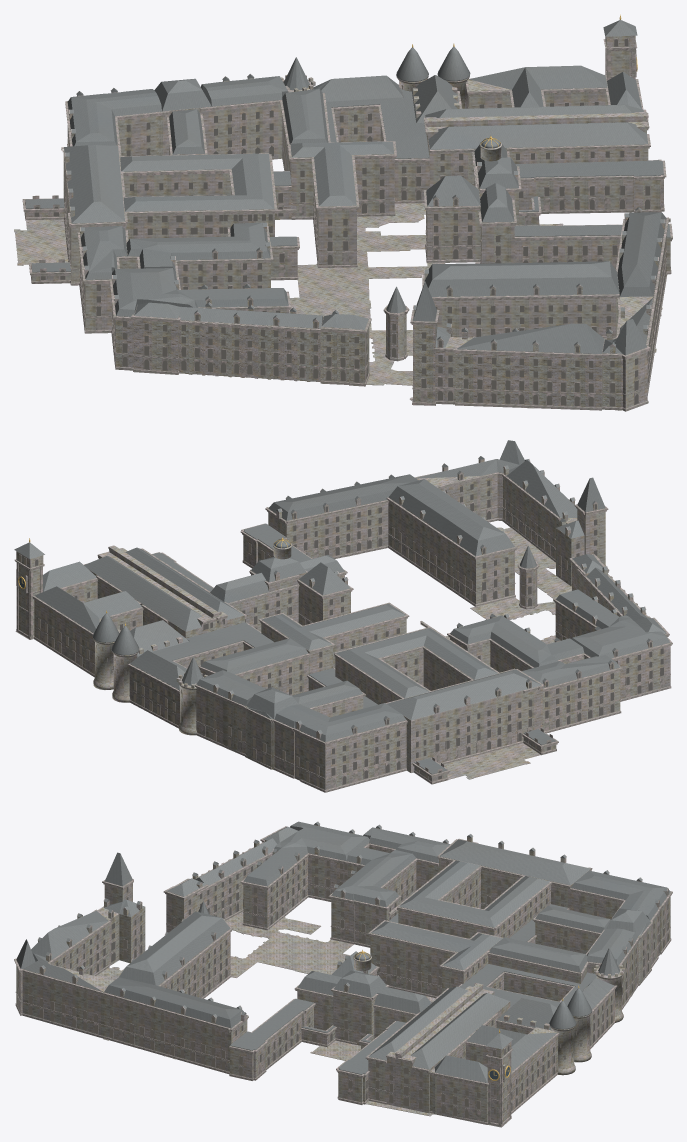
The model's file is palais-de-justice.glb.
3 renders of one model, top to bottom at view 1: azimuth 30°, elevation 25°; view 2: azimuth 150°, elevation 25°; view 3: azimuth 270°, elevation 25°, orthographic. The views are drawn at different scales.
Parts seen in each view (by area): view 1: stone, roof, trim, window; view 2: stone, roof, trim, window; view 3: stone, roof, trim, window.
Part boxes in pixels (x1=…): stone: x1=14, y1=35, x2=670, y2=410; roof: x1=25, y1=20, x2=670, y2=355; trim: x1=22, y1=37, x2=672, y2=411; window: x1=25, y1=37, x2=666, y2=406; stone: x1=15, y1=459, x2=670, y2=789; roof: x1=14, y1=440, x2=670, y2=774; trim: x1=14, y1=456, x2=672, y2=792; window: x1=19, y1=468, x2=663, y2=786; stone: x1=16, y1=824, x2=670, y2=1127; roof: x1=16, y1=821, x2=670, y2=1082; trim: x1=14, y1=821, x2=672, y2=1126; window: x1=18, y1=855, x2=668, y2=1117.
Size of the model in its own units: 242 by 42.05 by 259.
Materials: 6 (6 with a texture image).
